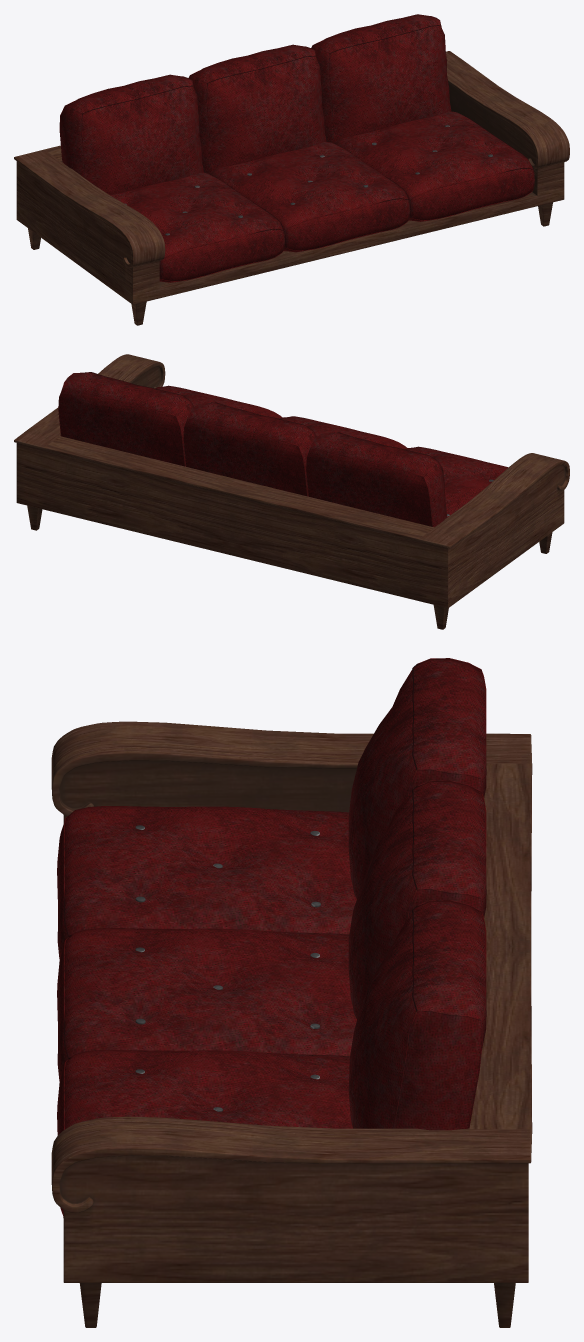
The model's file is antique_sofa.glb.
The picture shows the model from 3 angles, top to bottom: view 1: azimuth 30°, elevation 25°; view 2: azimuth 150°, elevation 25°; view 3: azimuth 270°, elevation 25°; orthographic projection. The views are drawn at different scales.
Visible parts, largest first — view 1: Cube.019; view 2: Cube.019; view 3: Cube.019.
Boxes of the visible parts, bbox=[...] form: Cube.019: bbox=[14, 14, 569, 325]; Cube.019: bbox=[14, 354, 569, 629]; Cube.019: bbox=[51, 658, 532, 1327].
Size of the model in its own units: 9.24 by 3.07 by 4.4.
Materials: 1 (1 with a texture image).
